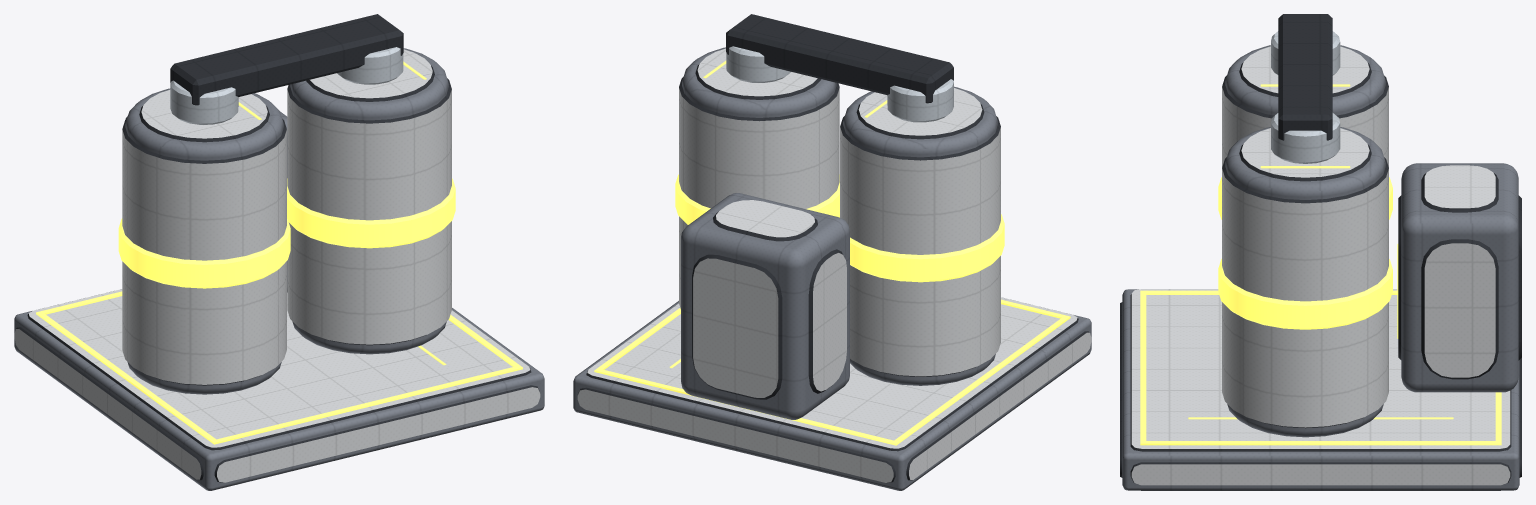
Rendered from R4X_Battery.glb.
3 renders of one model, left to right at view 1: azimuth 30°, elevation 25°; view 2: azimuth 150°, elevation 25°; view 3: azimuth 270°, elevation 25°, orthographic. The views are drawn at different scales.
Parts seen in each view (by area): view 1: R4X_Battery_Body; view 2: R4X_Battery_Body; view 3: R4X_Battery_Body.
Boxes of the visible parts, box(x1,y1,x2,y2) form: R4X_Battery_Body: box(14, 14, 544, 490); R4X_Battery_Body: box(573, 14, 1091, 490); R4X_Battery_Body: box(1120, 14, 1521, 490).
Size of the model in its own units: 0.52 by 0.495 by 0.52.
5 materials, 4 textured.
